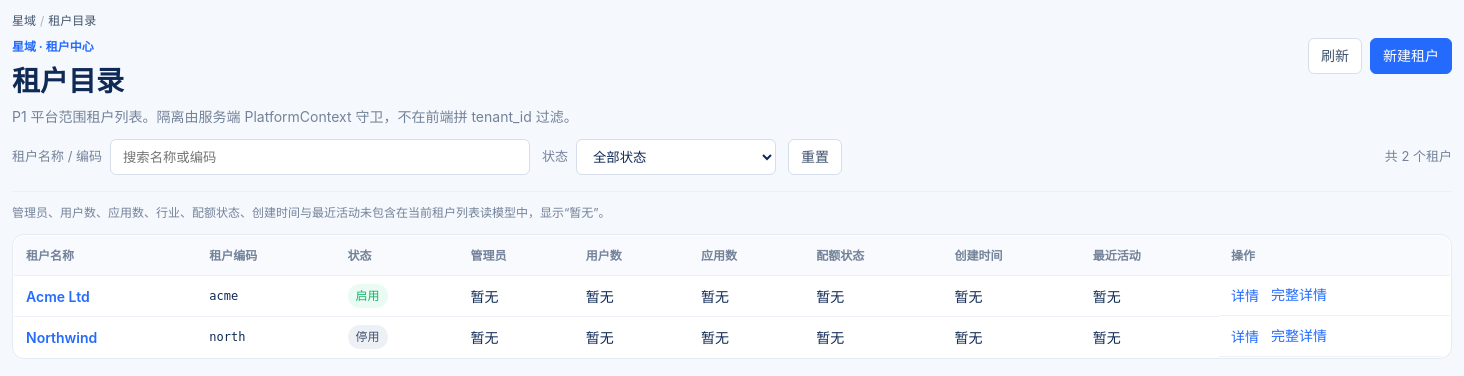
Scenario: P1 tenant directory V4 › filters the real list by tenant name/code and status
Check: the table with test id "nx-data-table" shows "Acme Ltd", box [26,286,90,306]
Step 1. Type "ACM" into the search field with test id "tenant-search" → coordinates (320, 157), box [110,139,530,175]
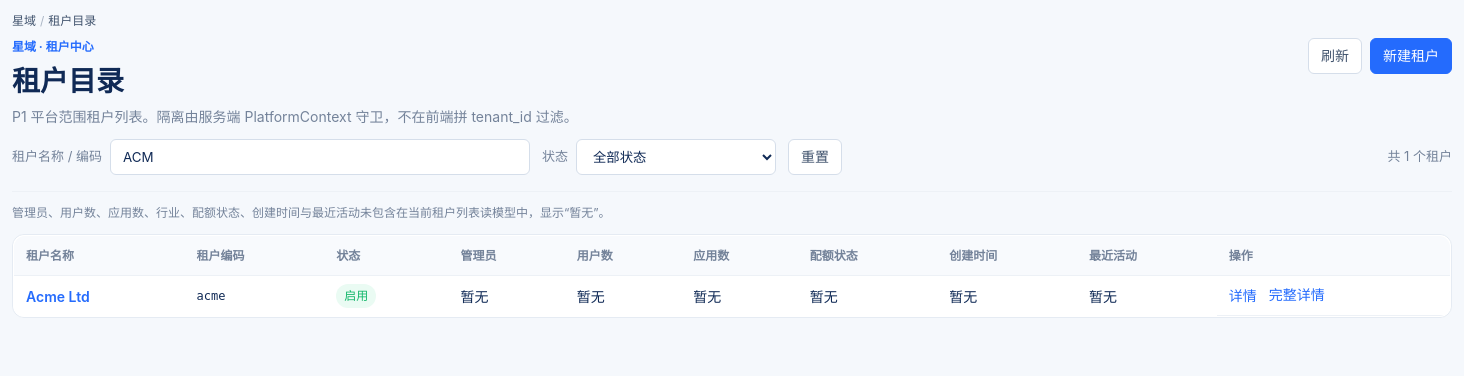
Check: the table with test id "nx-data-table" shows "Acme Ltd", box [26,286,90,306]
Check: the text "Northwind" is gone
Step 2. Clear the search field with test id "tenant-search" → coordinates (320, 157), box [110,139,530,175]
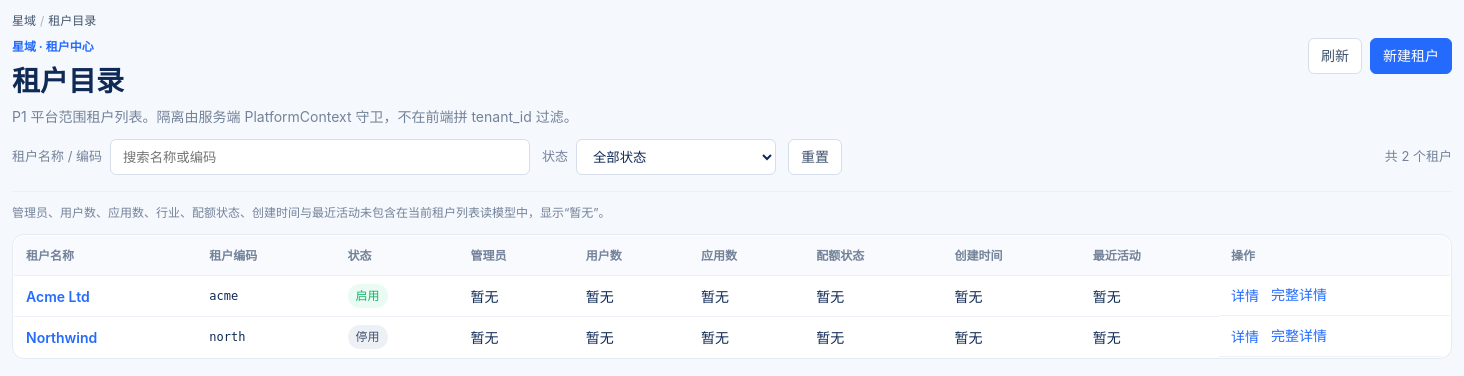
Step 3. Select "停用" in the dropdown with test id "tenant-status-filter" → coordinates (676, 157), box [576,139,776,175]
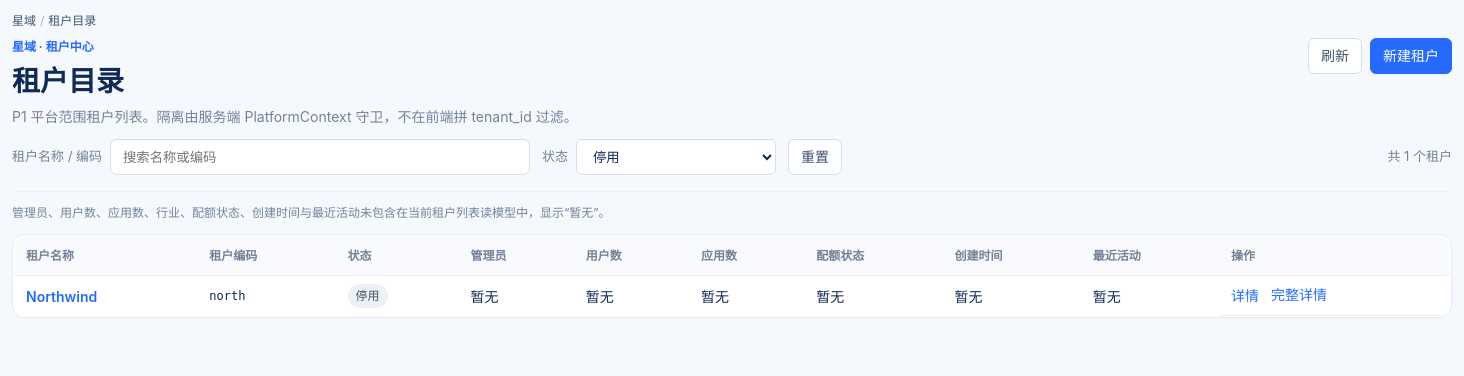
Check: the text "Northwind" is shown, box [26,286,97,306]
Check: the text "Acme Ltd" is gone
